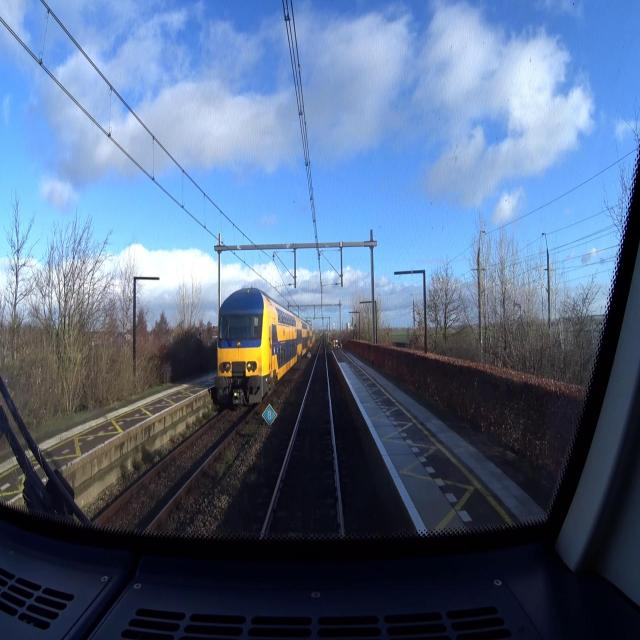rail-track: (102, 407, 249, 533), (263, 343, 341, 539)
